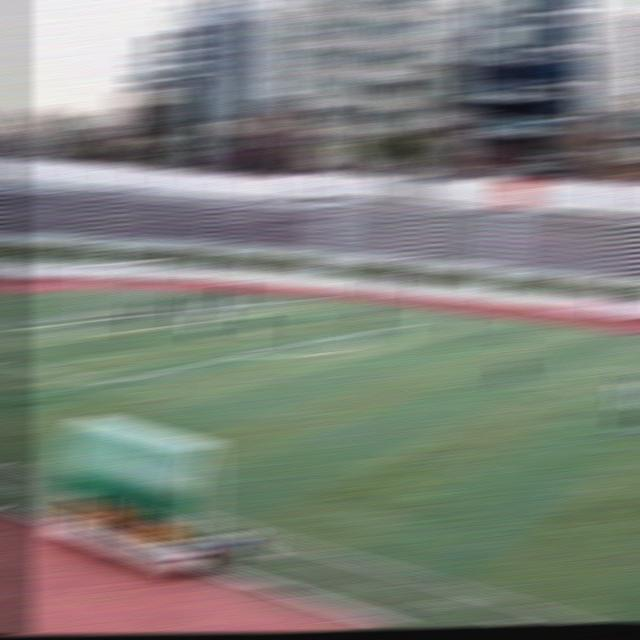bigarea_bottom_inner: (91, 373, 123, 394)
bigarea_top_inner: (398, 317, 423, 331)
bigarea_top_outter: (252, 297, 276, 310)
bottom_arc_area_intersection: (227, 346, 254, 365)
corner: (317, 293, 340, 299)
smallarea_bottom_inner: (82, 328, 107, 349)
smallarea_bottom_outter: (33, 319, 56, 336)
smallarea_top_inner: (230, 311, 253, 322)
smallarea_top_outter: (183, 304, 206, 313)
top_arc_area_intersection: (331, 327, 359, 345)
